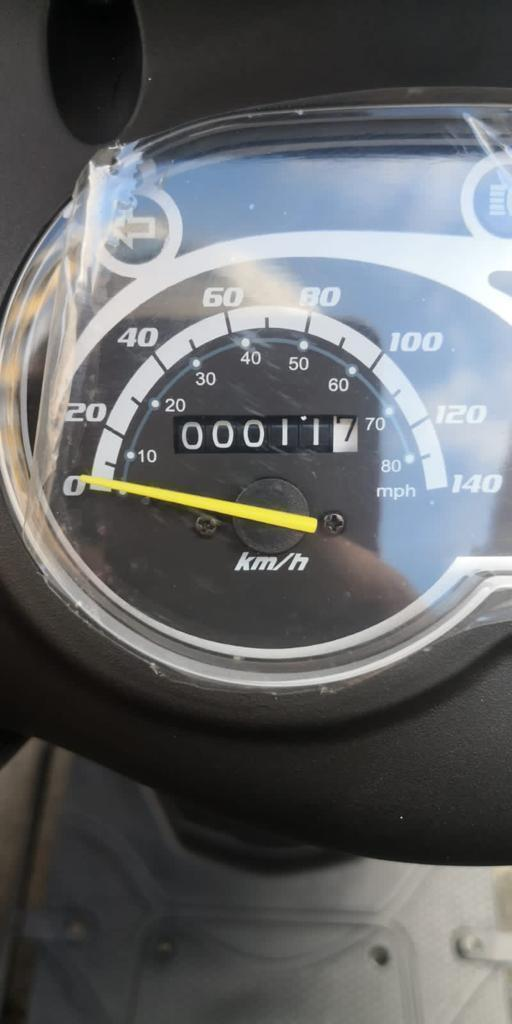0: (242, 418, 265, 448), (211, 419, 234, 448), (181, 421, 203, 450)
1: (280, 416, 288, 446), (312, 416, 320, 446)
7: (336, 414, 356, 441)
odometer: (170, 412, 359, 455)
